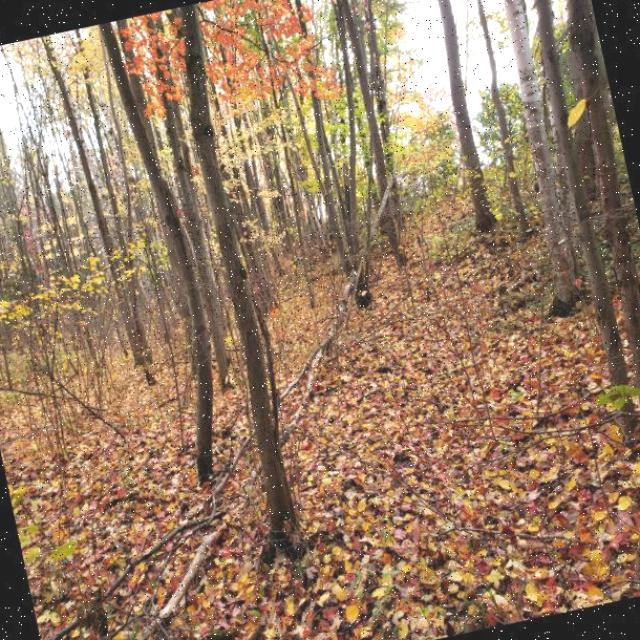fallen_object: (0, 125, 526, 640)
